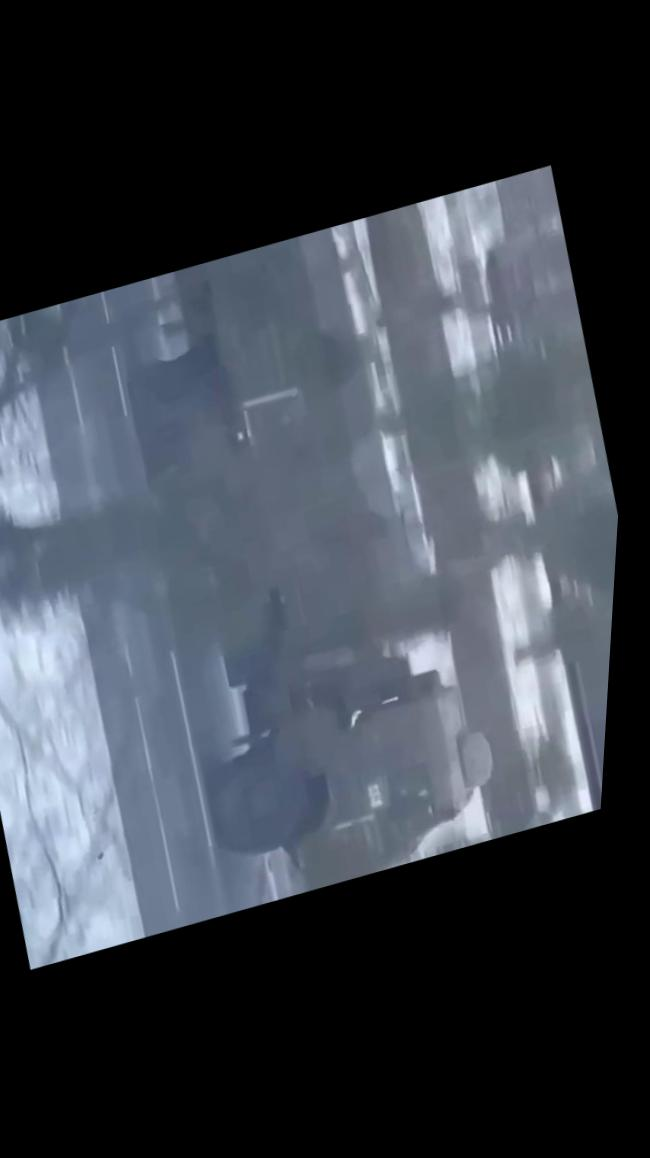truck: (66, 204, 548, 921)
